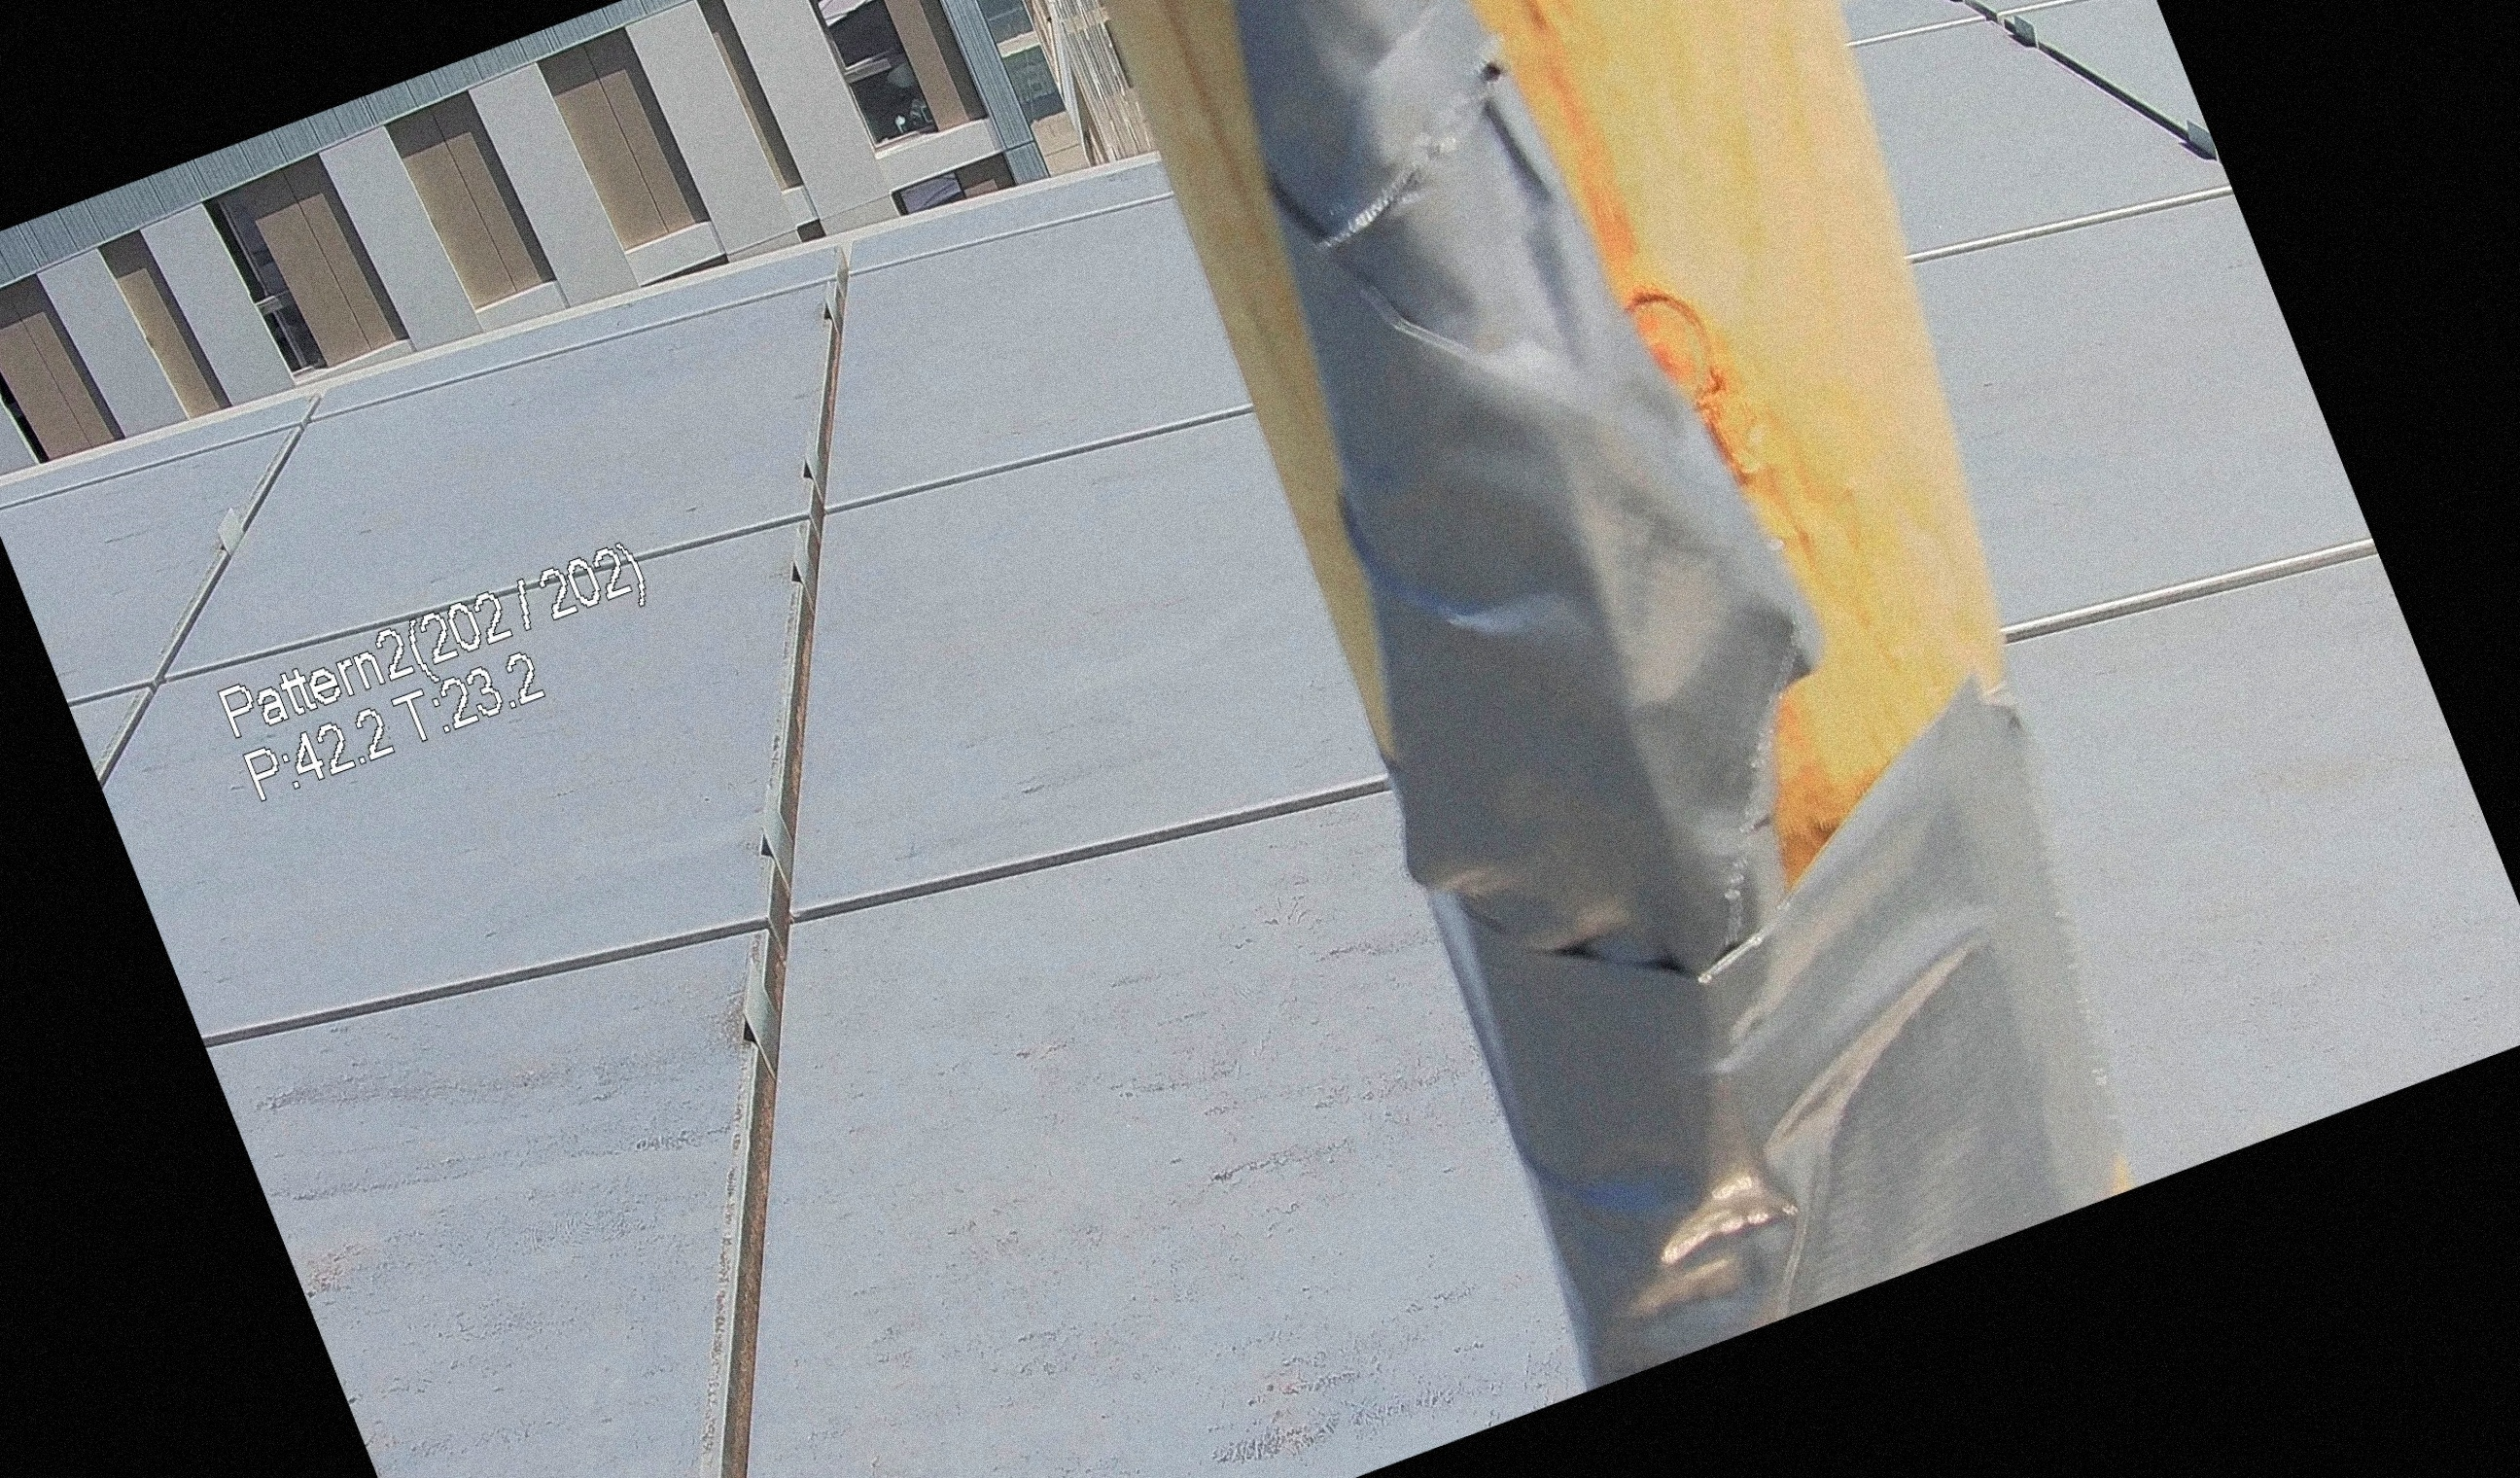Other: (1053, 0, 2005, 1131)
